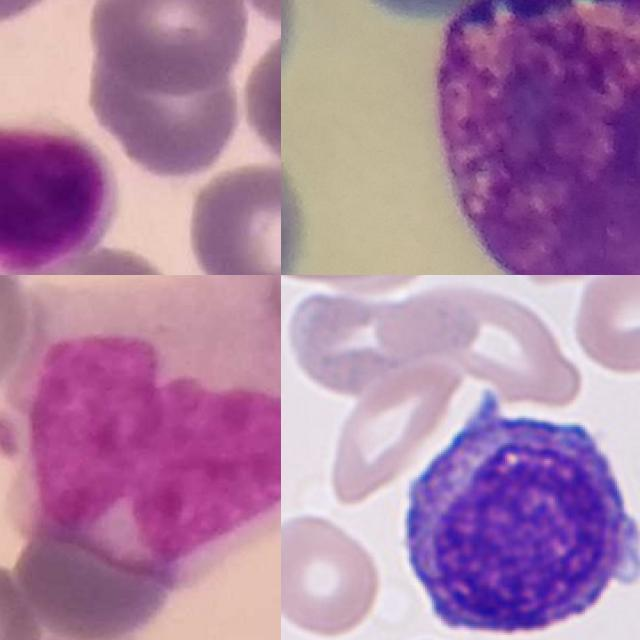Basophil: (439, 0, 640, 275)
Lymphocyte: (389, 384, 640, 640), (0, 110, 118, 275)
Monocyte: (6, 275, 281, 576)
RBC: (322, 359, 468, 507), (281, 506, 386, 640), (366, 281, 484, 361), (567, 275, 640, 373)
